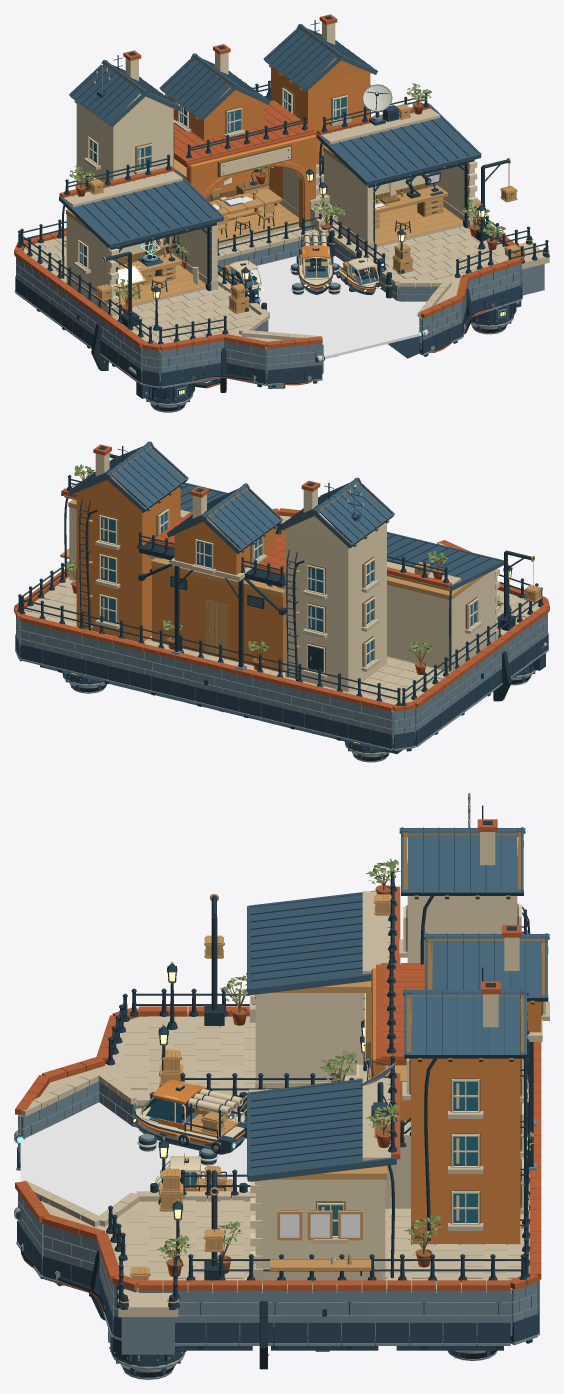
Rendered from chongzhen-refined-v3-low.glb.
3 views of the same model, one above another, from view 1: azimuth 30°, elevation 25°; view 2: azimuth 150°, elevation 25°; view 3: azimuth 270°, elevation 25° (orthographic). The views are drawn at different scales.
Parts seen in each view (by area): view 1: harbor_slate, harbor_stone_paving, harbor_metal, harbor_plaster_cream, harbor_stone, harbor_wood, harbor_plaster_orange (×2), harbor_plaster_clay, harbor_pool, harbor_alloy_armor (×2), harbor_wood_dark, harbor_paper (×2) (+6 smaller); view 2: harbor_plaster_cream, harbor_plaster_orange, harbor_metal, harbor_slate, harbor_stone, harbor_alloy_armor (×2), harbor_plaster_clay, harbor_stone_paving, harbor_paper, harbor_wood, harbor_wood_dark, harbor_glass (+3 smaller); view 3: harbor_slate, harbor_stone_paving, harbor_plaster_cream, harbor_metal, harbor_stone, harbor_plaster_orange (×2), harbor_plaster_clay, harbor_alloy_armor (×2), harbor_pool, harbor_wood (×2), harbor_wood_dark, harbor_paper (×2) (+4 smaller).
Boxes of the visible parts, x1,y1,x2,y2 form: harbor_slate: [59, 24, 481, 249]; harbor_stone_paving: [23, 108, 549, 352]; harbor_metal: [17, 15, 549, 392]; harbor_plaster_cream: [66, 22, 477, 305]; harbor_stone: [16, 221, 544, 382]; harbor_wood: [66, 104, 549, 313]; harbor_plaster_orange (×2): [167, 58, 370, 290]; harbor_plaster_clay: [14, 14, 524, 351]; harbor_pool: [250, 255, 426, 358]; harbor_alloy_armor (×2): [15, 71, 522, 411]; harbor_wood_dark: [74, 27, 509, 308]; harbor_paper (×2): [78, 88, 396, 285]; harbor_plaster_cream: [69, 452, 499, 692]; harbor_plaster_orange: [76, 477, 285, 672]; harbor_metal: [17, 446, 543, 751]; harbor_slate: [61, 441, 504, 607]; harbor_stone: [16, 527, 547, 744]; harbor_alloy_armor (×2): [15, 493, 548, 761]; harbor_plaster_clay: [14, 444, 549, 711]; harbor_stone_paving: [24, 485, 540, 713]; harbor_paper: [99, 508, 478, 672]; harbor_wood: [60, 499, 541, 656]; harbor_wood_dark: [64, 445, 533, 673]; harbor_glass: [101, 512, 476, 672]; harbor_slate: [247, 827, 549, 1181]; harbor_stone_paving: [20, 891, 549, 1316]; harbor_plaster_cream: [250, 832, 519, 1280]; harbor_metal: [40, 805, 541, 1369]; harbor_stone: [18, 1081, 538, 1354]; harbor_plaster_orange (×2): [135, 943, 542, 1245]; harbor_plaster_clay: [15, 819, 541, 1290]; harbor_alloy_armor (×2): [15, 808, 539, 1377]; harbor_pool: [20, 1102, 255, 1215]; harbor_wood (×2): [119, 894, 406, 1303]; harbor_wood_dark: [140, 832, 545, 1279]; harbor_paper (×2): [135, 905, 545, 1264].
Bounding box in the file's own units: 17.8 × 10.27 × 13.23.
